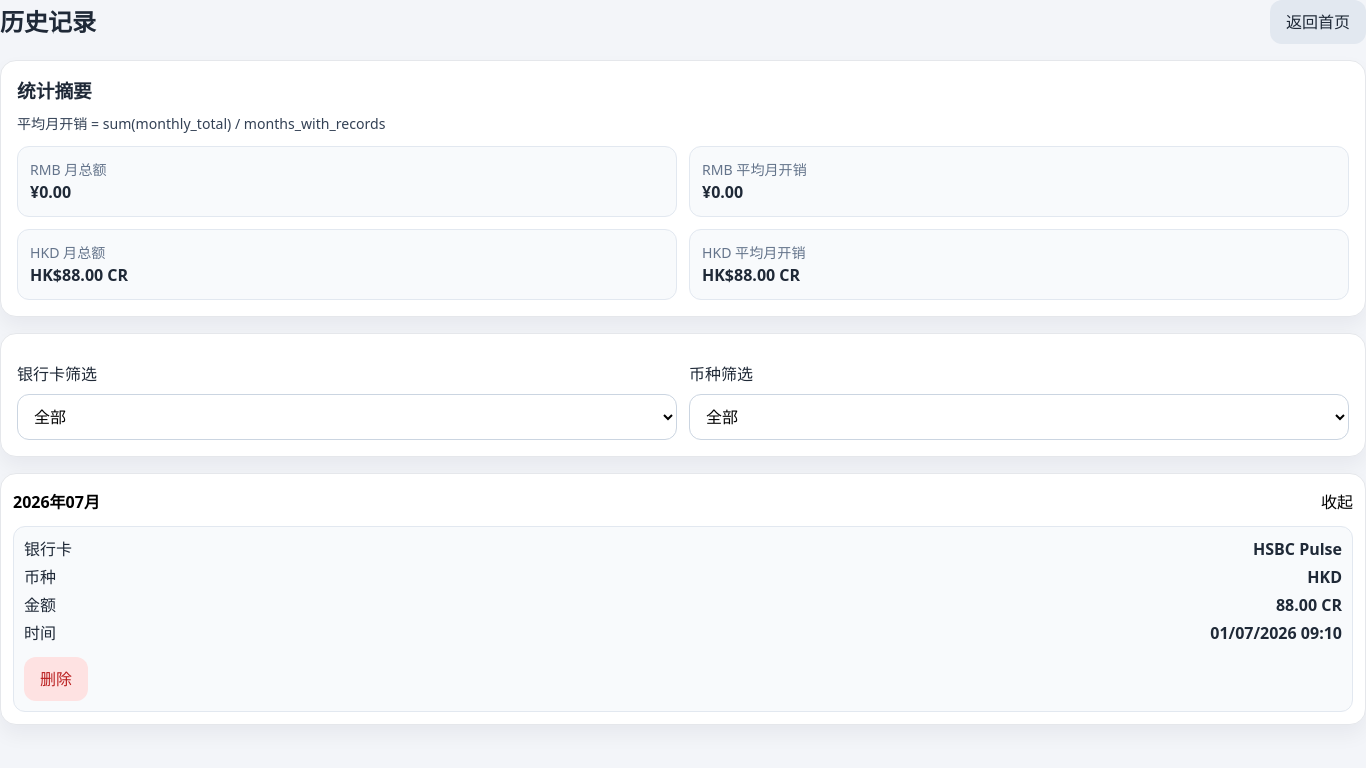
Test: HistoryPage › keeps dialog open and shows error when delete fails
Click the button with class "ghost-danger": (56,679) [24,657,88,701]
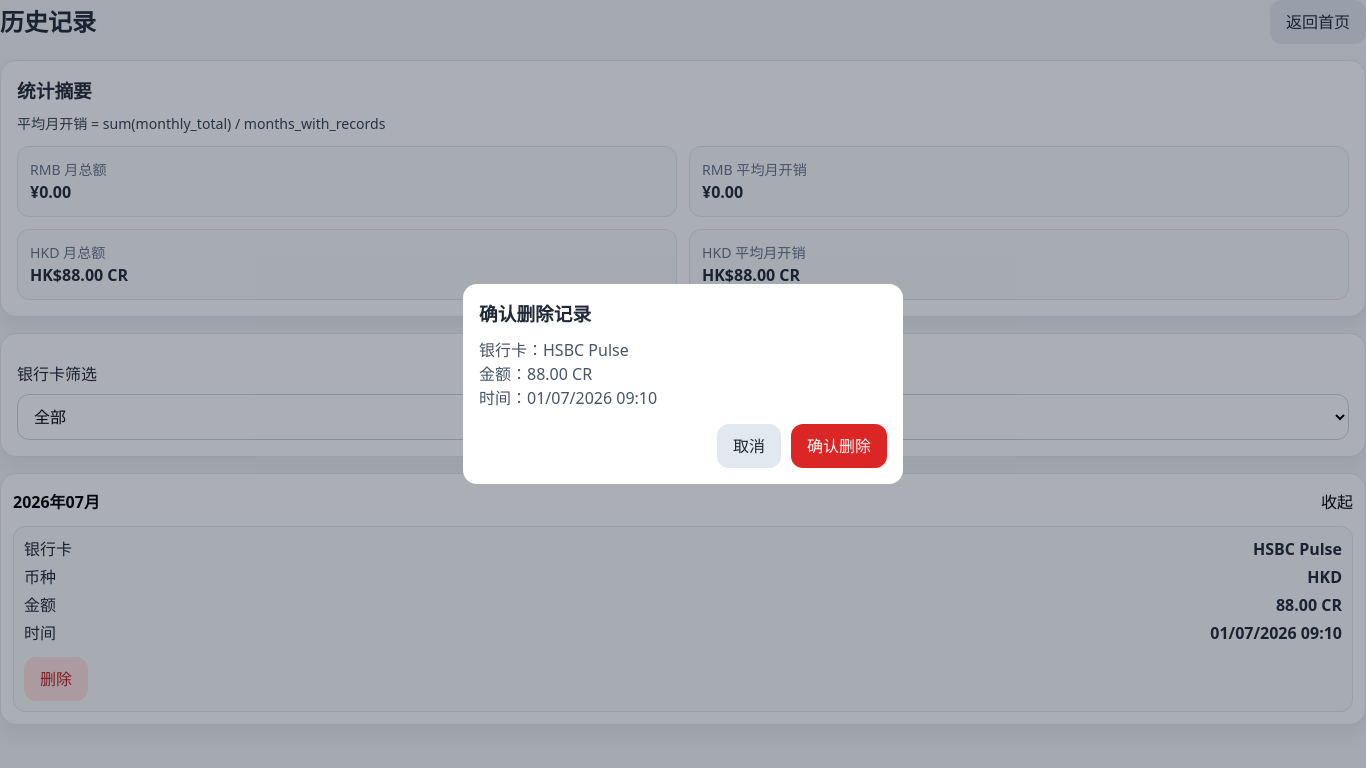
Click the button "确认删除": (839,446) [791,424,887,468]
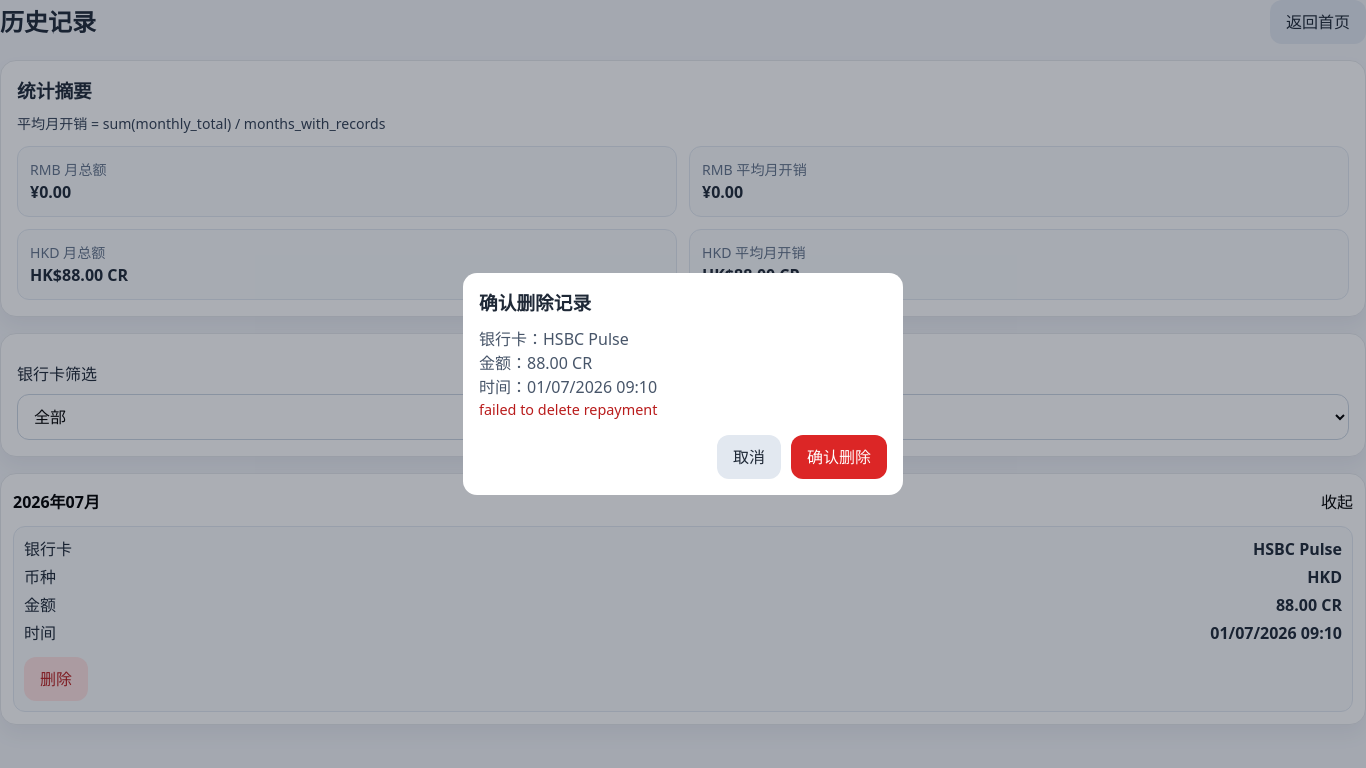
Now the text "确认删除记录" is shown, box [479,290,591,315]
Now the text "failed to delete repayment" is shown, box [479,400,657,419]
